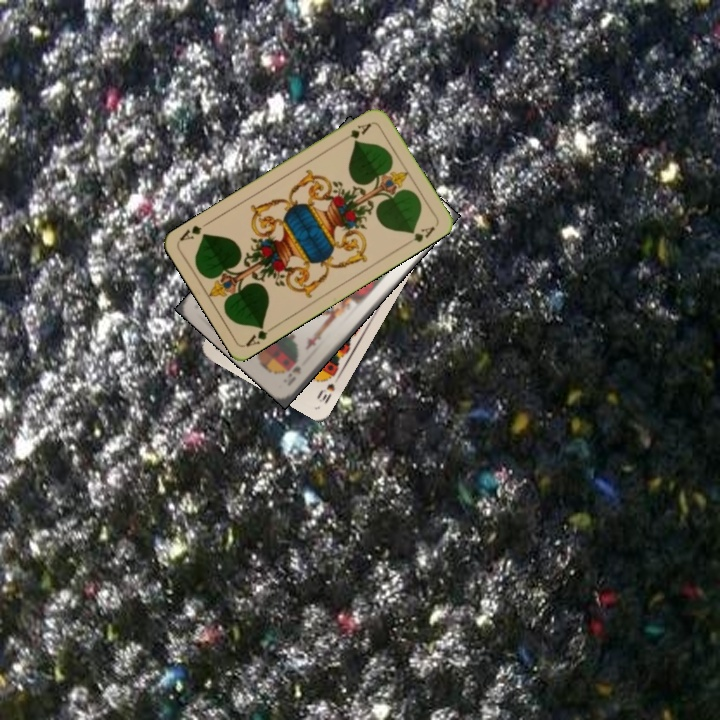GA: (242, 321, 279, 349), (337, 119, 374, 145)
S10: (313, 371, 343, 406)
SK: (283, 362, 304, 389)
